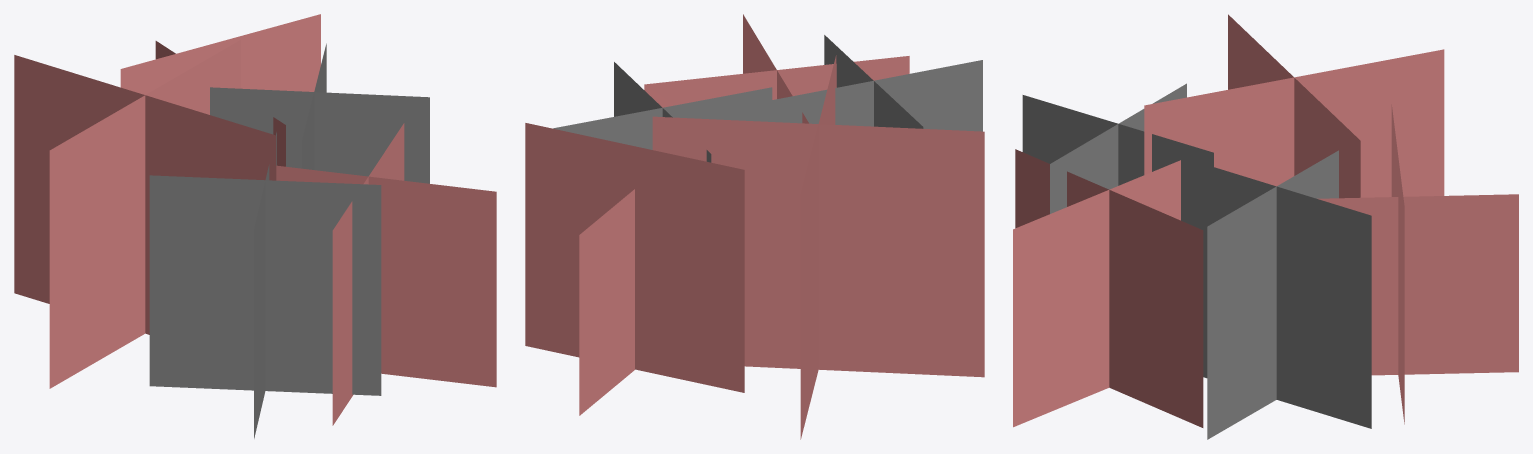
The model's file is SM_grass_flower_patch5.fbx.
3 renders of one model, left to right at view 1: azimuth 30°, elevation 25°; view 2: azimuth 150°, elevation 25°; view 3: azimuth 270°, elevation 25°, orthographic. The views are drawn at different scales.
Visible parts, largest first — view 1: SM_grass_flower_patch5; view 2: SM_grass_flower_patch5; view 3: SM_grass_flower_patch5.
Boxes of the visible parts, x1=… form: SM_grass_flower_patch5: x1=14, y1=14, x2=496, y2=438; SM_grass_flower_patch5: x1=525, y1=14, x2=984, y2=439; SM_grass_flower_patch5: x1=1013, y1=14, x2=1518, y2=439.
Size of the model in its own units: 32.2 by 20.15 by 37.69.
